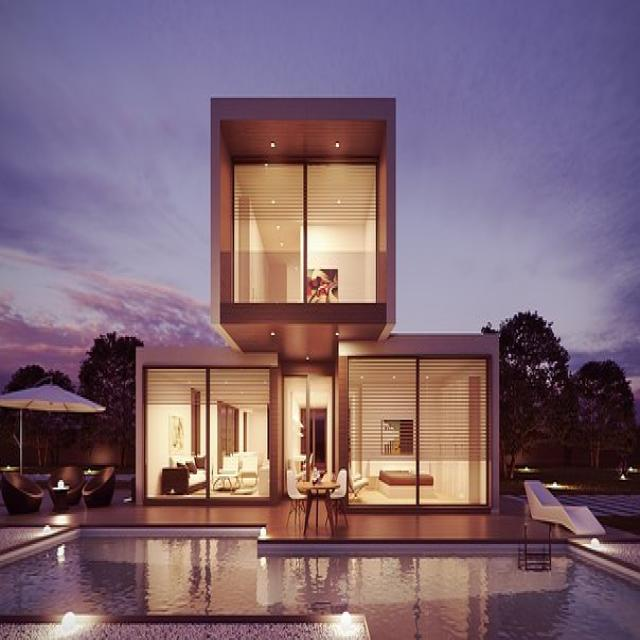building: (128, 87, 508, 530)
